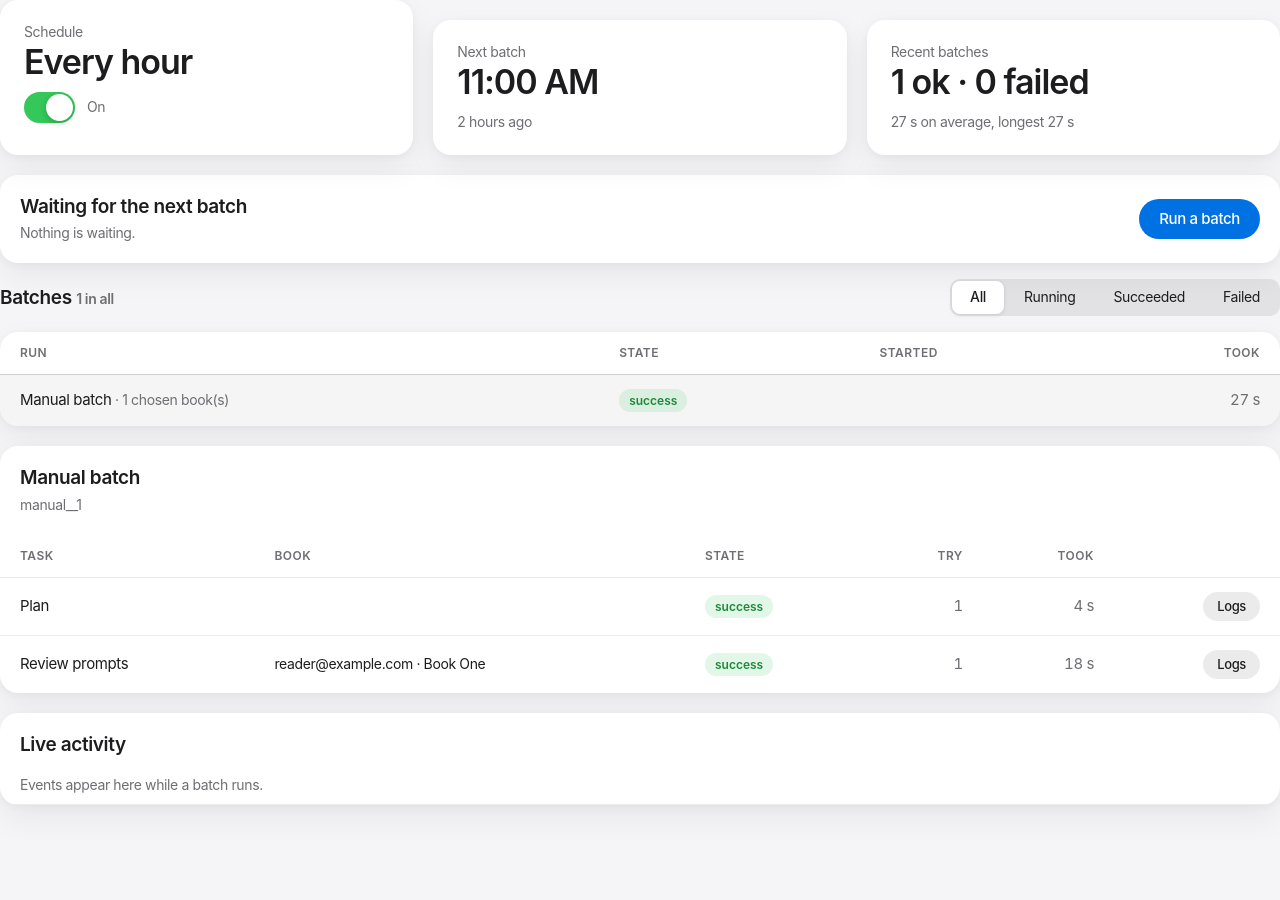
Test: PipelineTab › lists the run with its labelled tasks and opens and closes a task log
Expected: the text "reader@example.com · Book One" is shown, [254,635,685,693]
Expected: the text "· 1 chosen book(s)" is shown, [112,391,229,408]
Click the button "Logs" in the row of "Review prompts" at (1232,664), box [1203,650,1260,679]
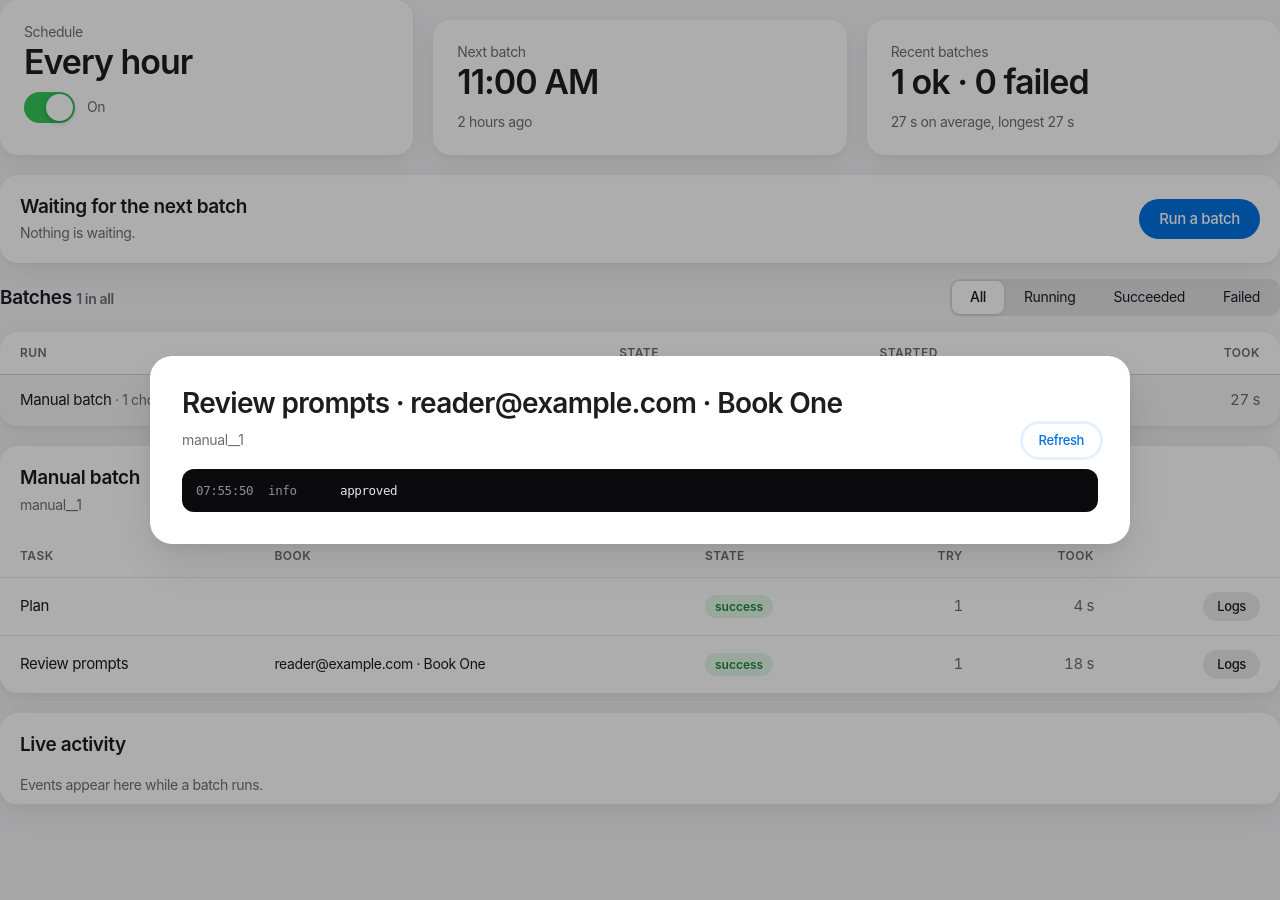
Expected: the text "approved" is shown, [340,483,397,498]
Press Escape
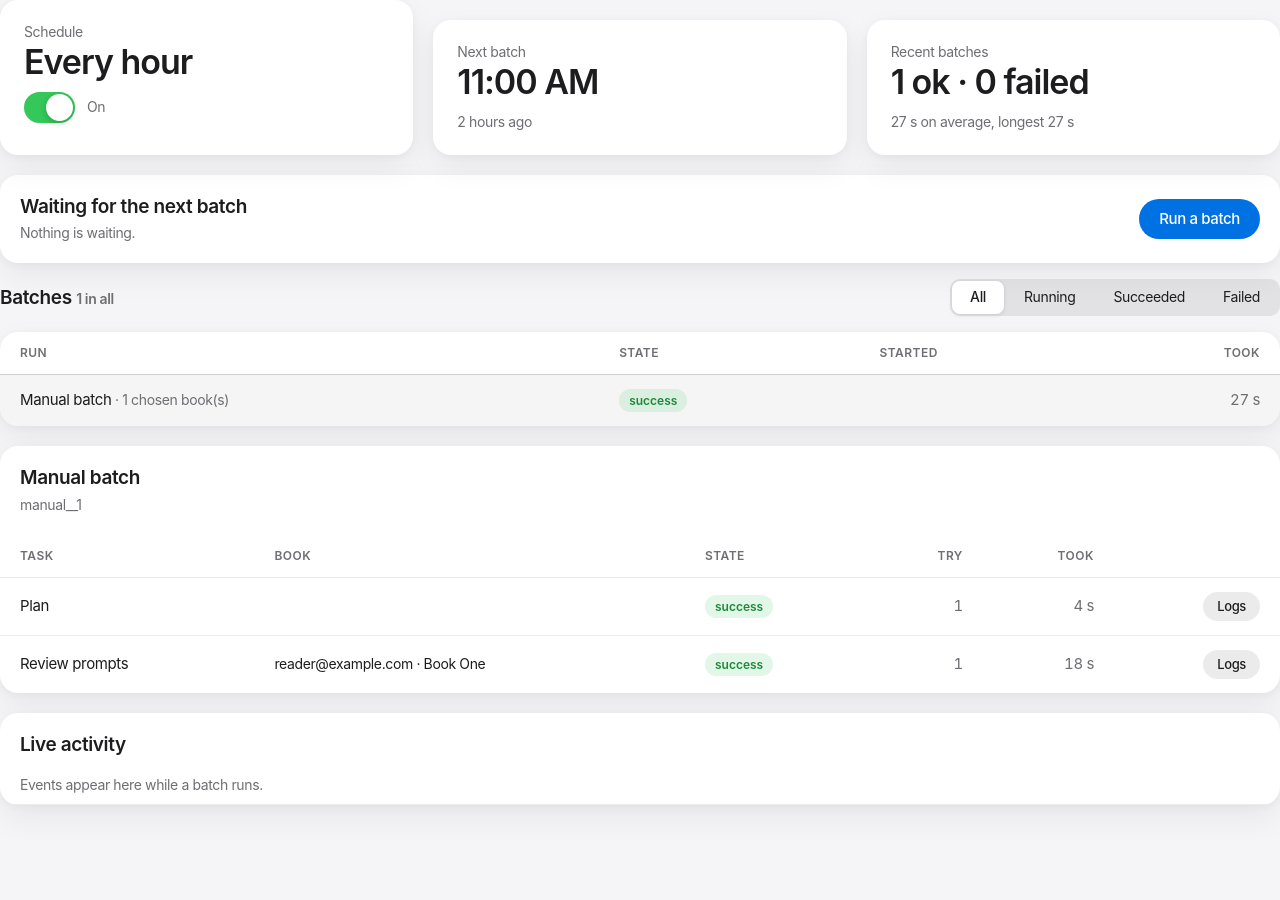
Expected: the text "approved" is gone
